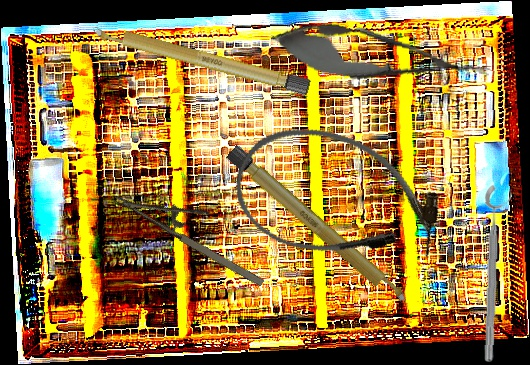Cannula: (221, 110, 455, 284)
Fixation Ring: (478, 184, 515, 363)
Micro Scissor: (266, 12, 494, 99)
Needle Holder: (112, 165, 280, 292)
Scalpel Handle: (225, 144, 412, 310), (88, 19, 313, 97)
